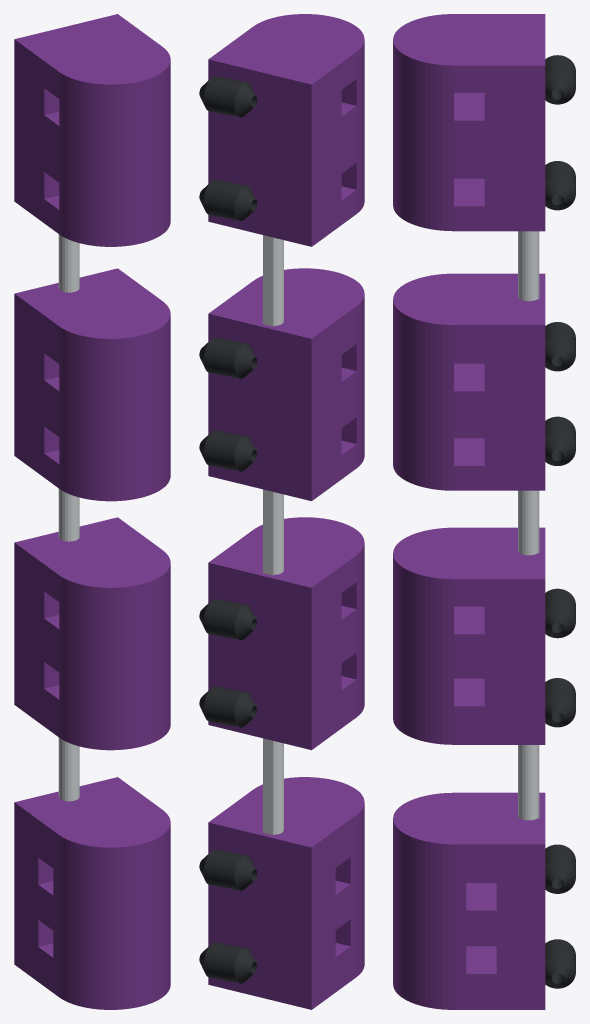
Rendered from tinker.obj.
The picture shows the model from 3 angles, left to right: view 1: azimuth 30°, elevation 25°; view 2: azimuth 150°, elevation 25°; view 3: azimuth 270°, elevation 25°; orthographic projection. The views are drawn at different scales.
Parts seen in each view (by area): view 1: group_0_8273816, group_0_14541540; view 2: group_0_8273816, group_0_2829873, group_0_14541540; view 3: group_0_8273816, group_0_2829873, group_0_14541540.
Boxes of the visible parts, <box> form: group_0_8273816: <box>14,14,170,1009</box>; group_0_14541540: <box>58,234,79,801</box>; group_0_8273816: <box>208,14,364,1009</box>; group_0_2829873: <box>199,76,256,983</box>; group_0_14541540: <box>263,235,283,835</box>; group_0_8273816: <box>393,14,545,1009</box>; group_0_2829873: <box>545,55,575,988</box>; group_0_14541540: <box>518,231,539,820</box>.
Size of the model in its own units: 20.05 by 171 by 30.
